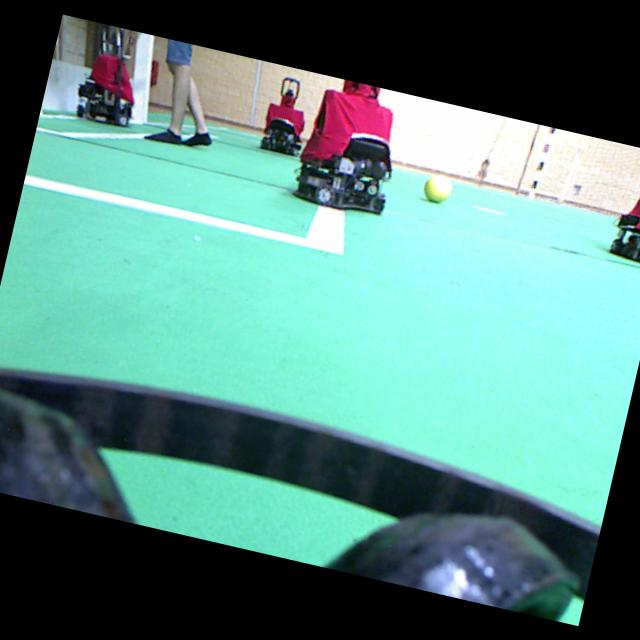ball: (306, 205, 344, 253), (423, 175, 451, 201)
